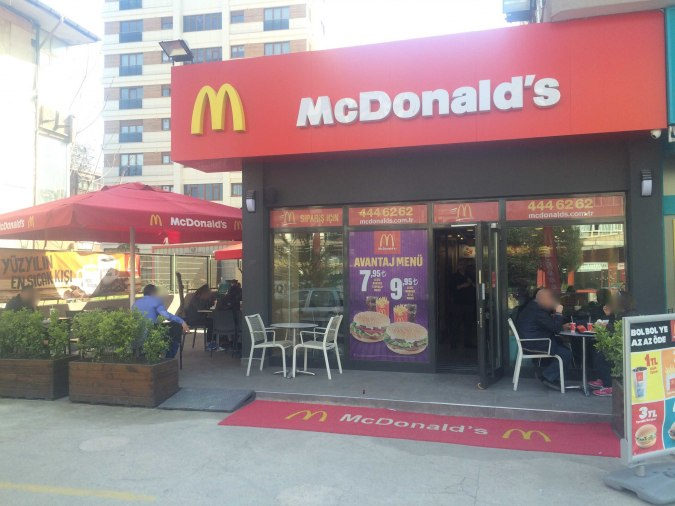mcdonalds: (187, 80, 258, 142)
